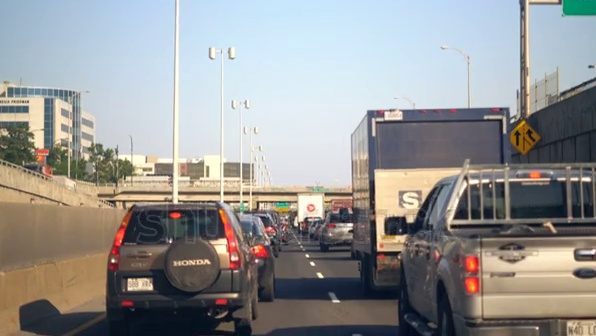licenseplate: (122, 274, 157, 292)
